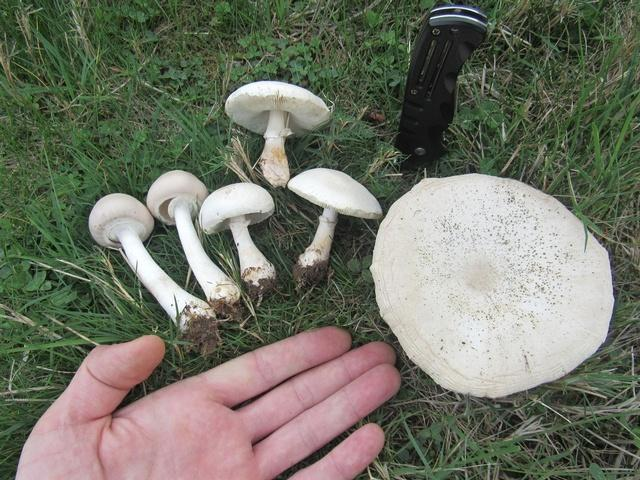poisonous_mushroom: (369, 171, 615, 399), (87, 191, 221, 355), (286, 166, 382, 288), (223, 79, 331, 187), (197, 180, 276, 302)
